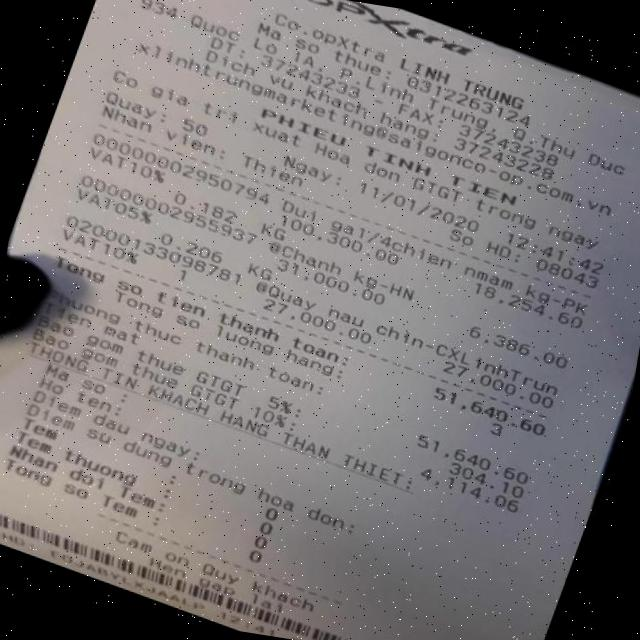Date: (349, 176, 498, 242)
Store_Name: (252, 0, 546, 117)
amount_number: (424, 379, 556, 442)
label_total: (42, 246, 360, 370)
